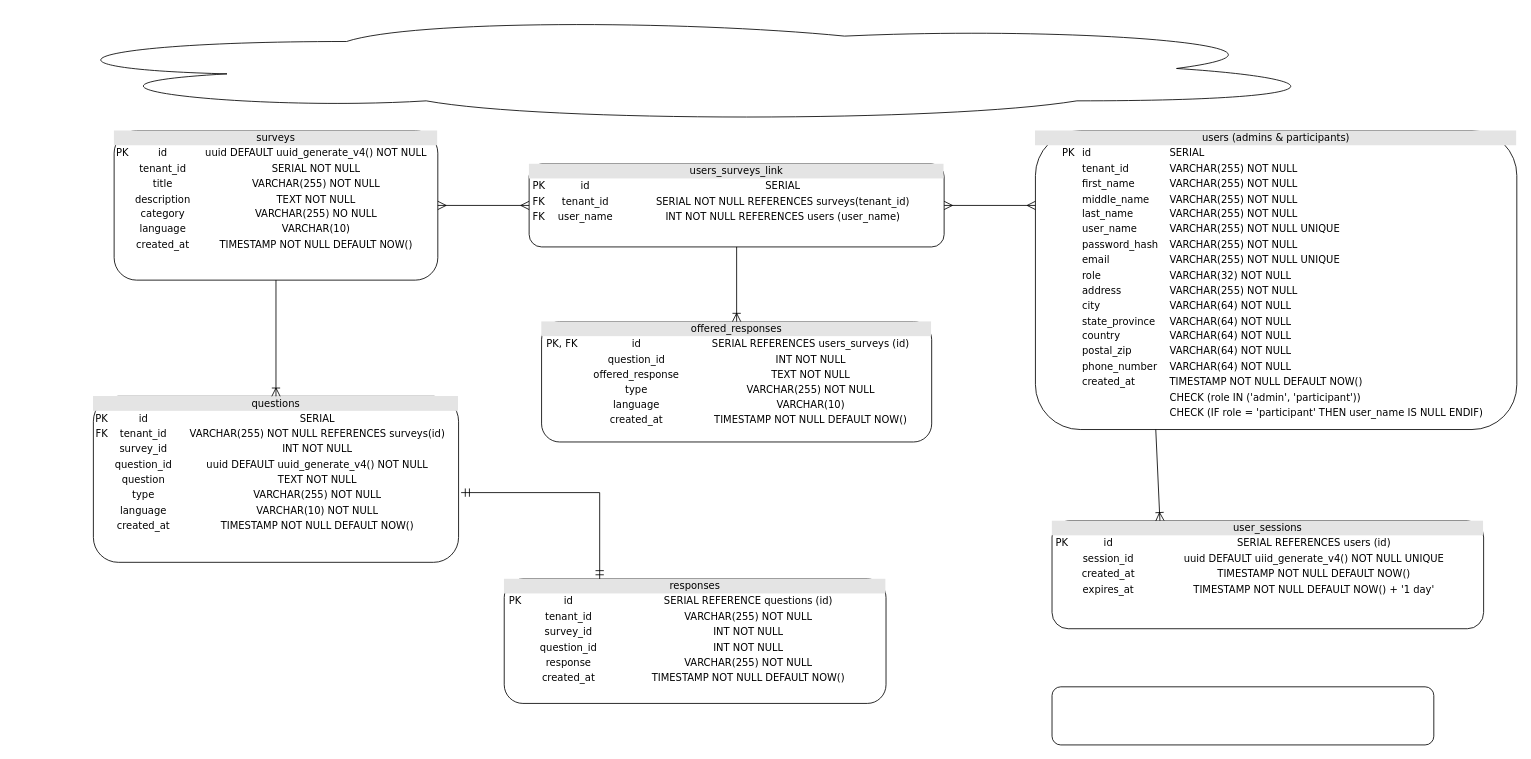
This 1531x759 diagram has some shape labels left out. The box of each missing label's shape, as (x1, y1, x2, y2) in pixels:
Cloud Provider (Azure, GCP etc.): (14, 14, 1343, 122)
tenants PK id SERIAL tenant_id uuid DEFAULT uuid_generate_v4() NOT NULL UNIQUE: (1051, 686, 1434, 745)
